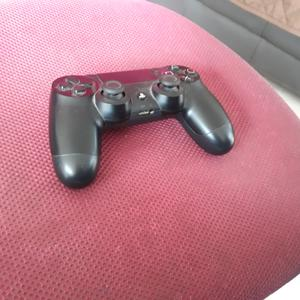controller: (49, 65, 234, 188)
